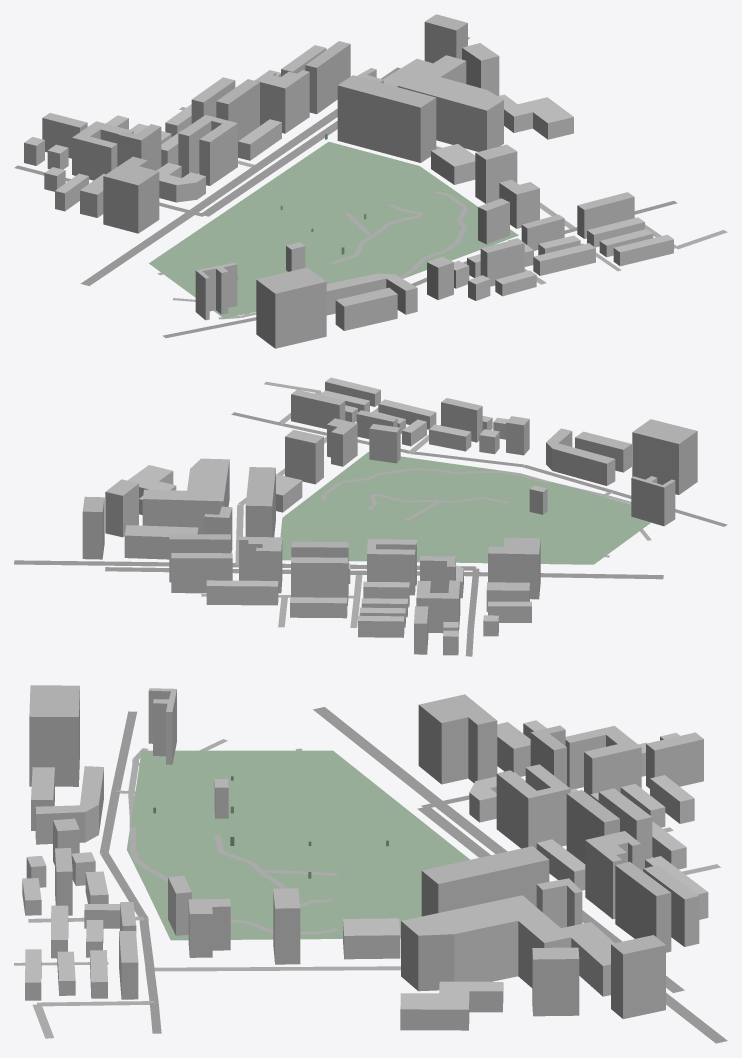
3 views of the same model, one above another, from view 1: azimuth 30°, elevation 25°; view 2: azimuth 150°, elevation 25°; view 3: azimuth 270°, elevation 25° (orthographic). The views are drawn at different scales.
Size of the model in its own units: 617 by 61.13 by 552.
